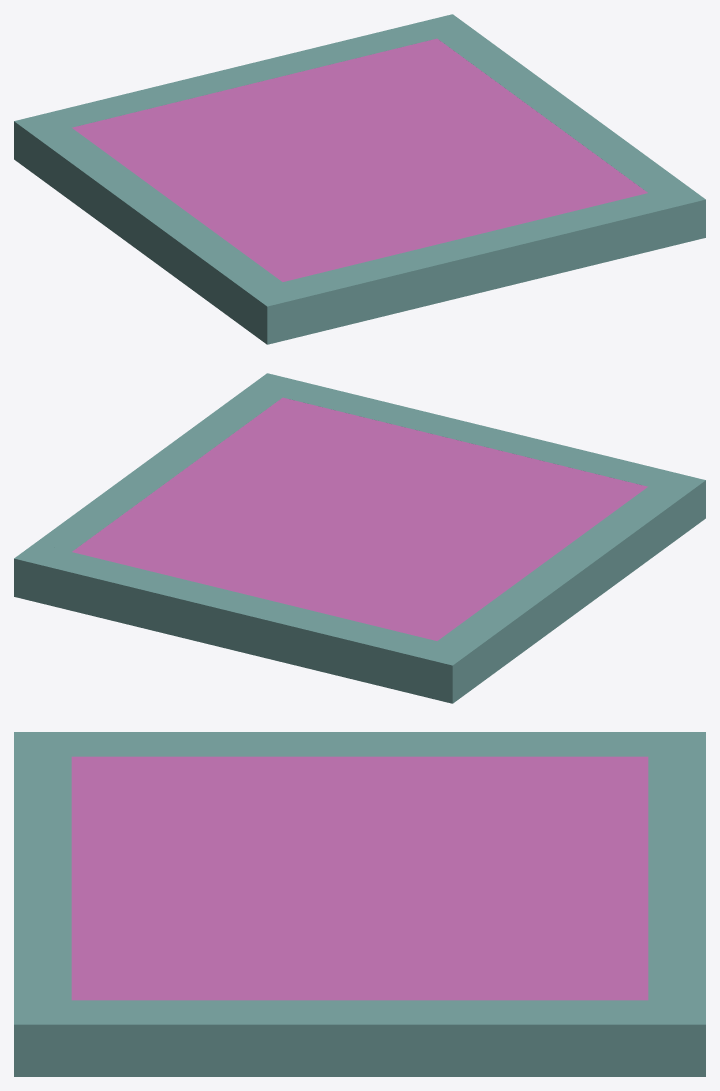
The model's file is Tile.fbx.
3 renders of one model, top to bottom at view 1: azimuth 30°, elevation 25°; view 2: azimuth 150°, elevation 25°; view 3: azimuth 270°, elevation 25°, orthographic. The views are drawn at different scales.
Visible parts, largest first — view 1: pCube1, pasted__pCube2, pCube4, pCube3, pasted__pCube3; view 2: pCube1, pasted__pCube3, pCube4, pasted__pCube2, pCube3; view 3: pCube1, pCube3, pasted__pCube3, pCube4, pasted__pCube2.
Part boxes in pixels (x1,y1,x2,y2): pCube1: [72, 38, 647, 281]; pasted__pCube2: [246, 193, 669, 344]; pCube4: [14, 112, 282, 328]; pCube3: [437, 29, 705, 246]; pasted__pCube3: [51, 14, 473, 127]; pCube1: [72, 397, 647, 640]; pasted__pCube3: [14, 543, 436, 694]; pCube4: [416, 487, 684, 703]; pasted__pCube2: [283, 382, 705, 533]; pCube3: [35, 373, 303, 551]; pCube1: [71, 756, 648, 1000]; pCube3: [14, 1000, 648, 1076]; pasted__pCube3: [648, 756, 705, 1076]; pCube4: [71, 732, 705, 756]; pasted__pCube2: [14, 732, 71, 1000].
Size of the model in its own units: 12 by 1 by 12.
